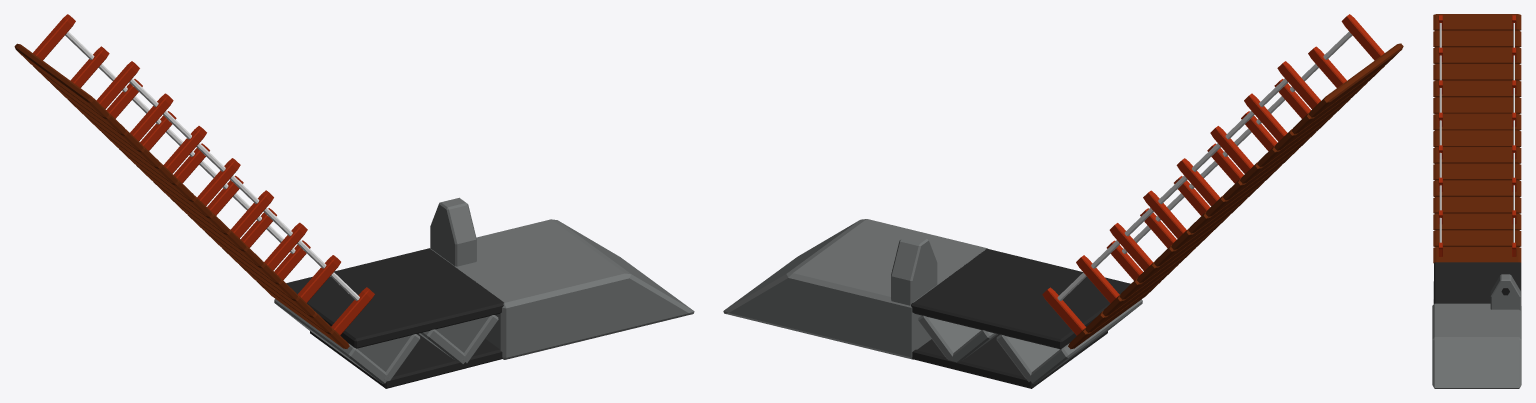
Rendered from brigjeg.fbx.
3 renders of one model, left to right at view 1: azimuth 30°, elevation 25°; view 2: azimuth 150°, elevation 25°; view 3: azimuth 270°, elevation 25°, orthographic. The views are drawn at different scales.
Visible parts, largest first — view 1: Plane, bridje; view 2: Plane, bridje; view 3: bridje, Plane.
Part boxes in pixels (bbox=[...]): Plane: bbox=[274, 197, 694, 388]; bridje: bbox=[14, 14, 374, 348]; Plane: bbox=[723, 219, 1142, 388]; bridje: bbox=[1042, 14, 1403, 349]; bridje: bbox=[1433, 14, 1521, 263]; Plane: bbox=[1432, 262, 1521, 388].
Size of the model in its own units: 1650 by 998 by 369.
